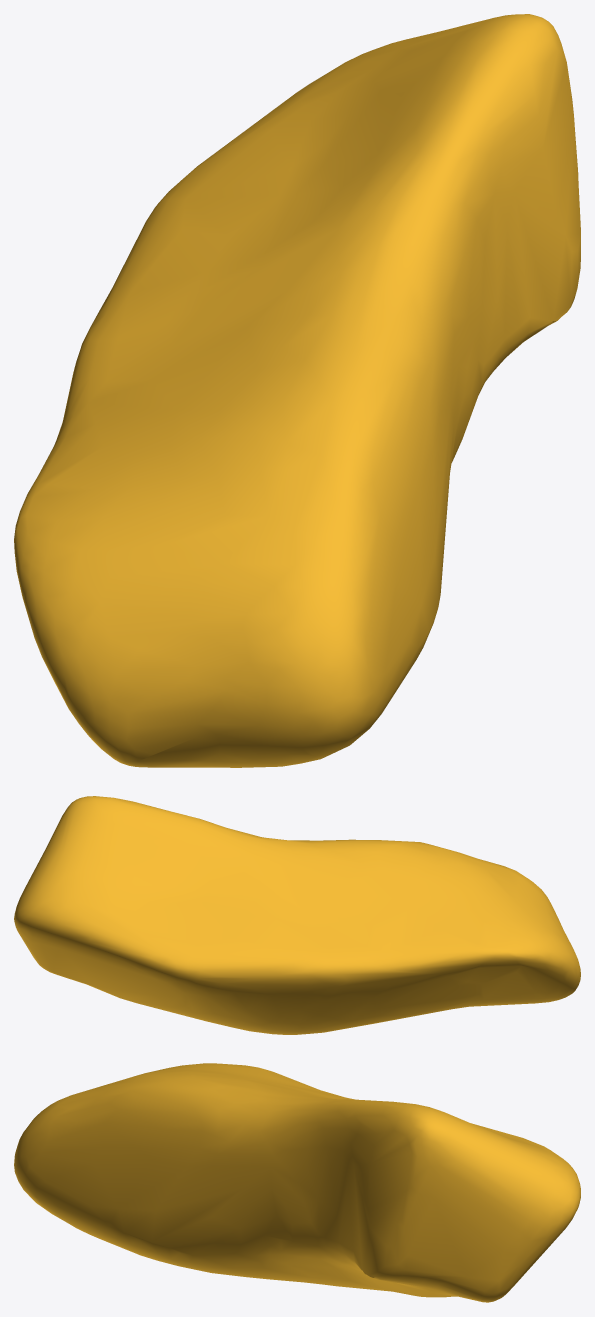
The model's file is nervoso-posterior-quadrangular-lobule-r.glb.
3 renders of one model, top to bottom at view 1: azimuth 30°, elevation 25°; view 2: azimuth 150°, elevation 25°; view 3: azimuth 270°, elevation 25°, orthographic. The views are drawn at different scales.
Visible parts, largest first — view 1: Posterior quadrangular lobule.r; view 2: Posterior quadrangular lobule.r; view 3: Posterior quadrangular lobule.r.
Part boxes in pixels (x1=…): Posterior quadrangular lobule.r: x1=14, y1=14, x2=580, y2=767; Posterior quadrangular lobule.r: x1=14, y1=796, x2=580, y2=1034; Posterior quadrangular lobule.r: x1=14, y1=1063, x2=580, y2=1302.
Bounding box in the file's own units: 0.0423 × 0.0233 × 0.0451.
